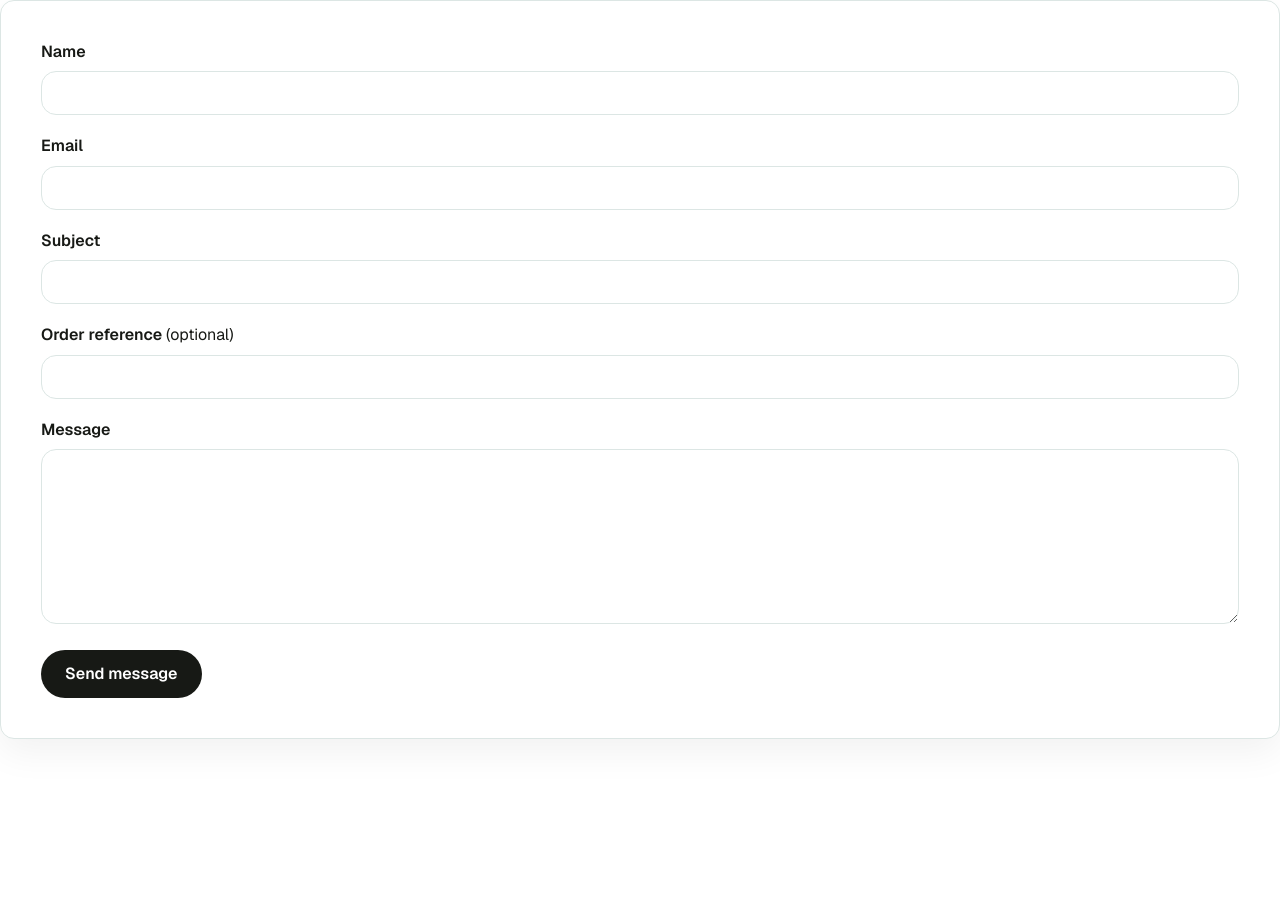
Test: ContactForm › shows a field error returned by the server
Type "Ada" into the field labelled "Name" at (640, 93), box left=41, top=71, right=1239, bottom=115
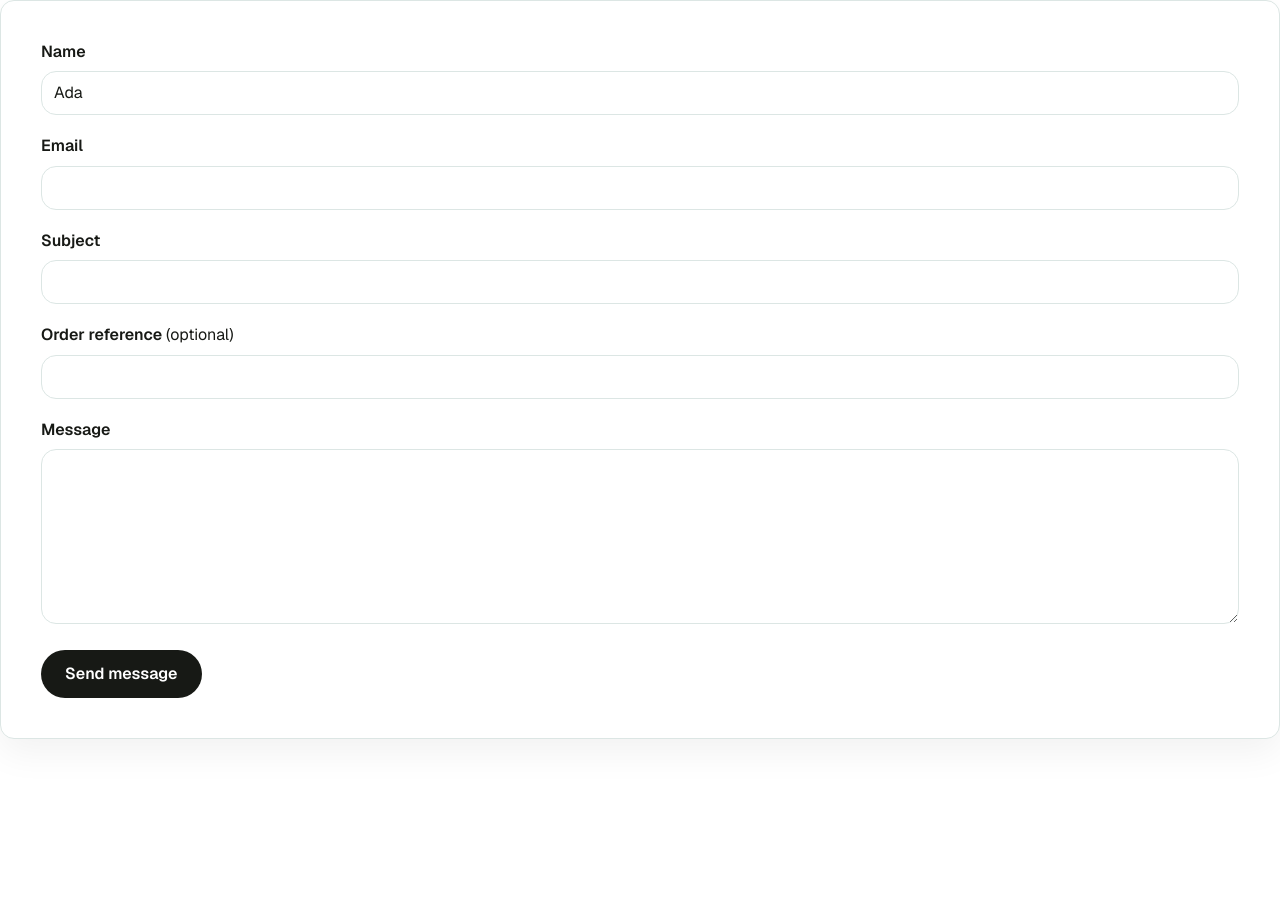
Type "ada@example.test" into the field labelled "Email" at (640, 188), box left=41, top=166, right=1239, bottom=210
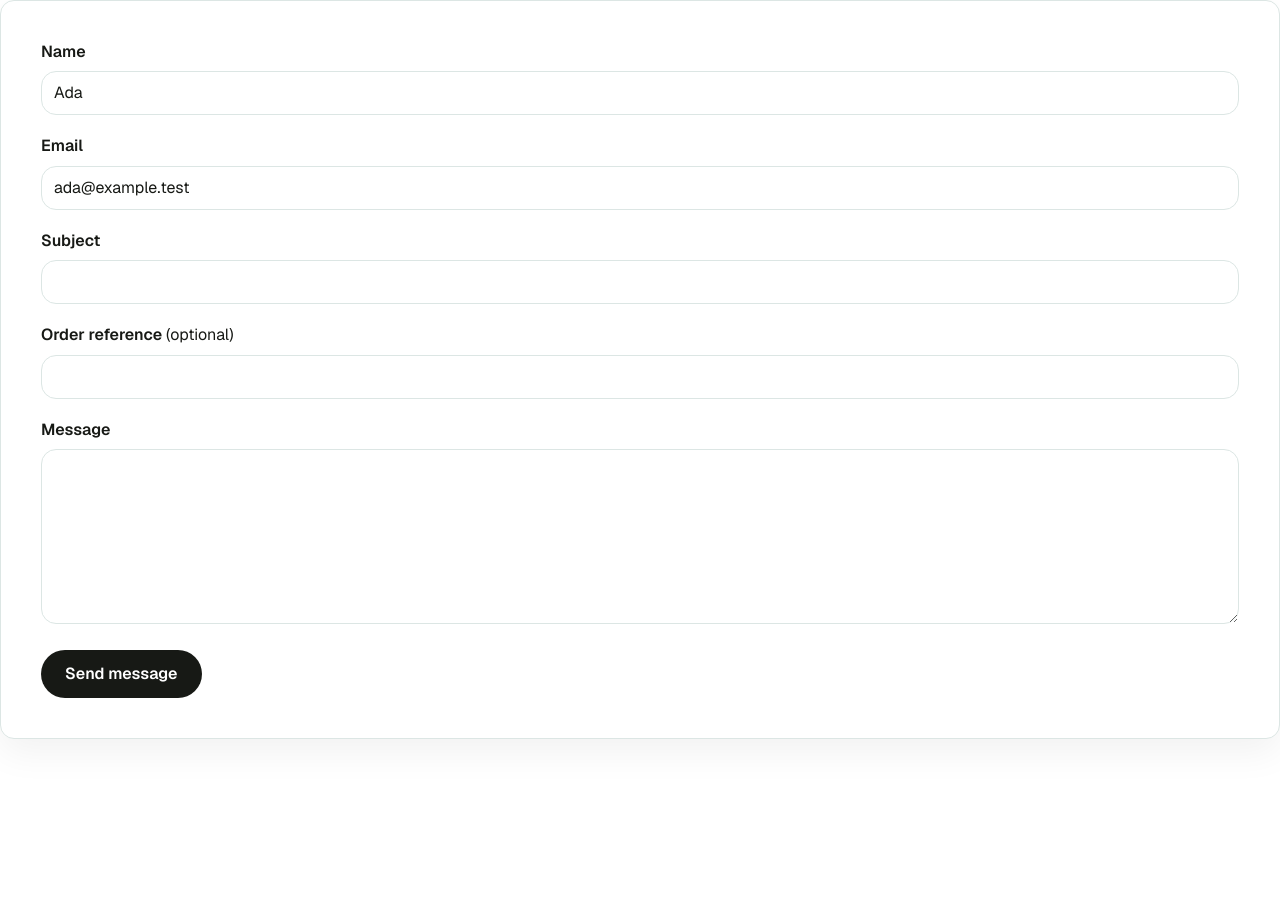
Type "Question" into the field labelled "Subject" at (640, 282), box left=41, top=260, right=1239, bottom=304
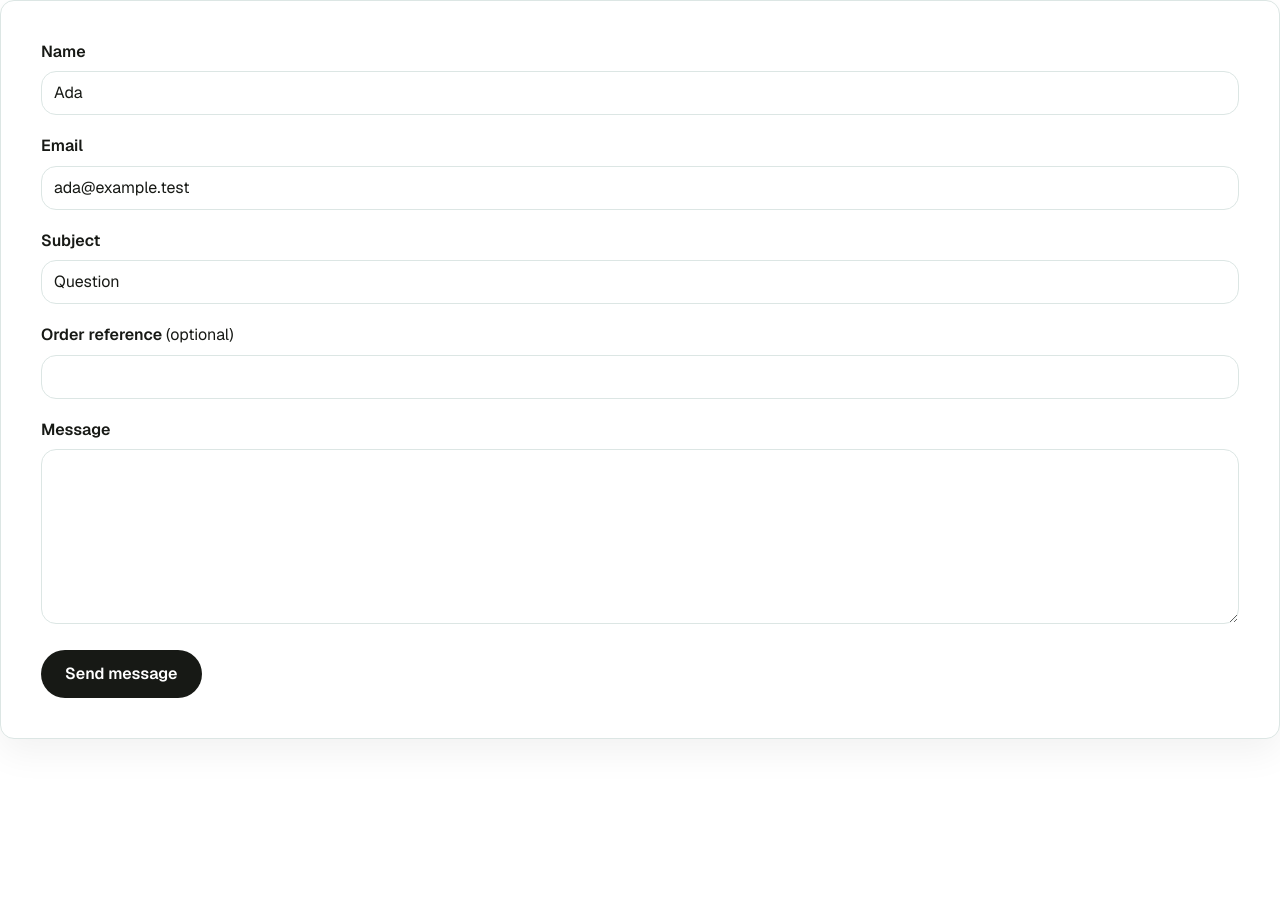
Type "Hello" into the text box labelled "Message" at (640, 536), box left=41, top=449, right=1239, bottom=624
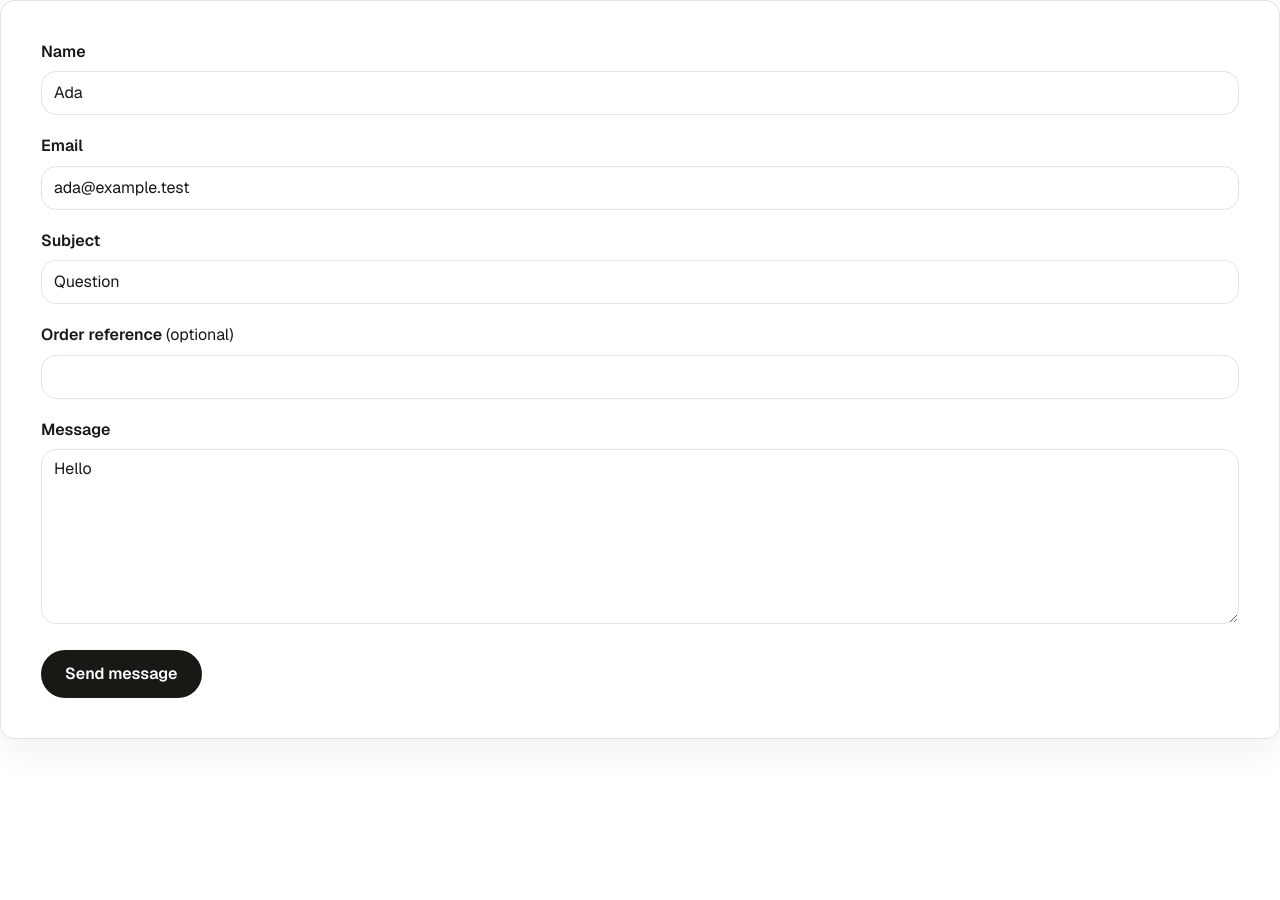
Submit the form
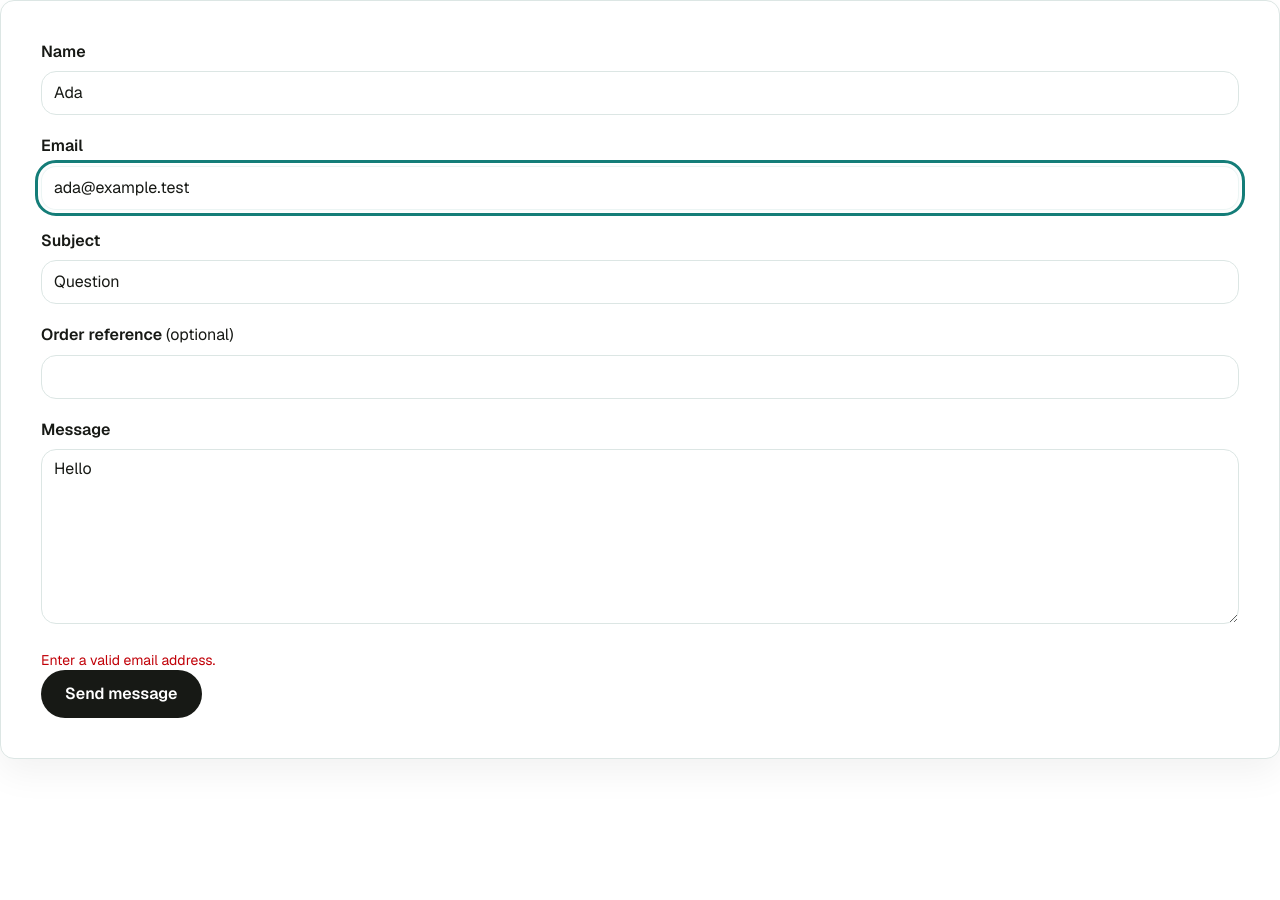
Now the message shows "valid email", box left=41, top=651, right=215, bottom=669
